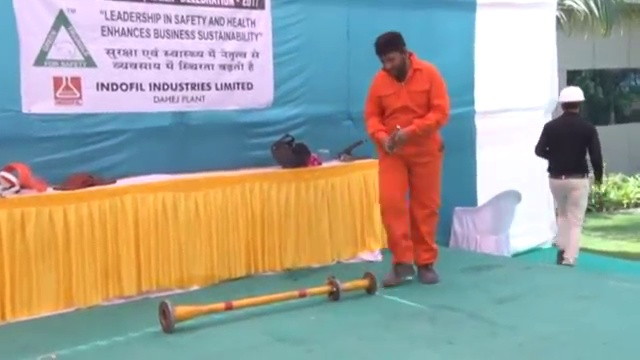helmet: (557, 84, 586, 103)
helmet_off: (374, 31, 413, 84)
helmet_on: (555, 84, 587, 116)
person: (360, 32, 448, 282), (533, 84, 604, 267)
